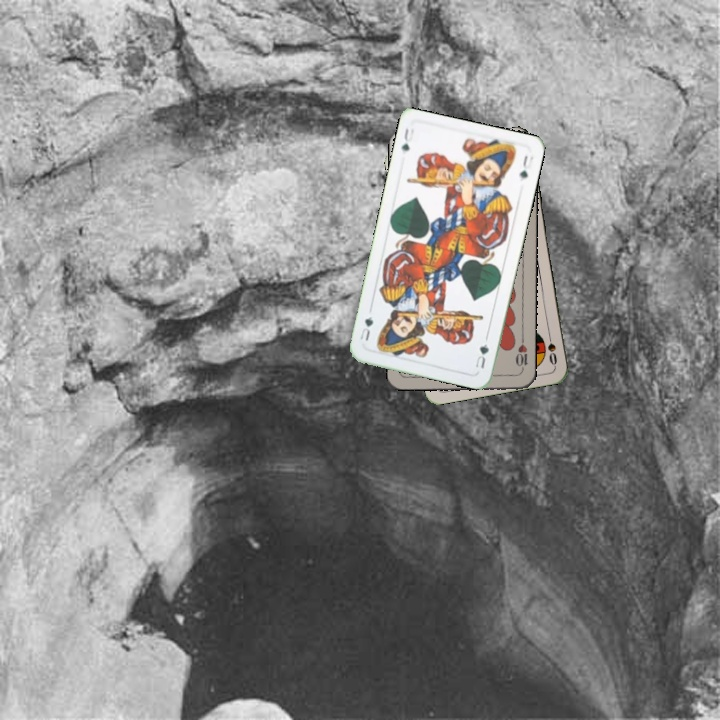GU: (472, 339, 491, 371), (397, 124, 417, 154)
H10: (511, 334, 530, 374)
SO: (544, 327, 560, 368)
